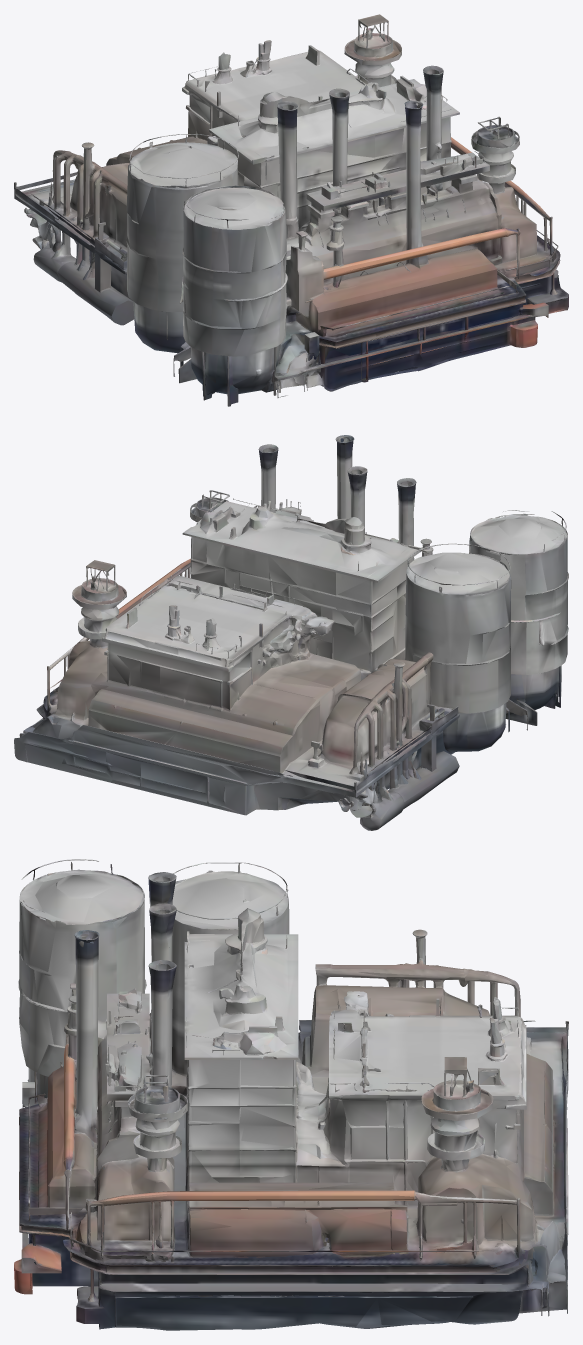
File: refinery.glb
The picture shows the model from 3 angles, top to bottom: view 1: azimuth 30°, elevation 25°; view 2: azimuth 150°, elevation 25°; view 3: azimuth 270°, elevation 25°; orthographic projection. The views are drawn at different scales.
Visible parts, largest first — view 1: Object_2; view 2: Object_2; view 3: Object_2.
Part boxes in pixels (bbox=[...]): Object_2: bbox=[14, 14, 568, 406]; Object_2: bbox=[14, 435, 568, 830]; Object_2: bbox=[14, 859, 568, 1330].
Size of the model in its own units: 1.89 by 1.16 by 1.92.
Materials: 1 (1 with a texture image).
